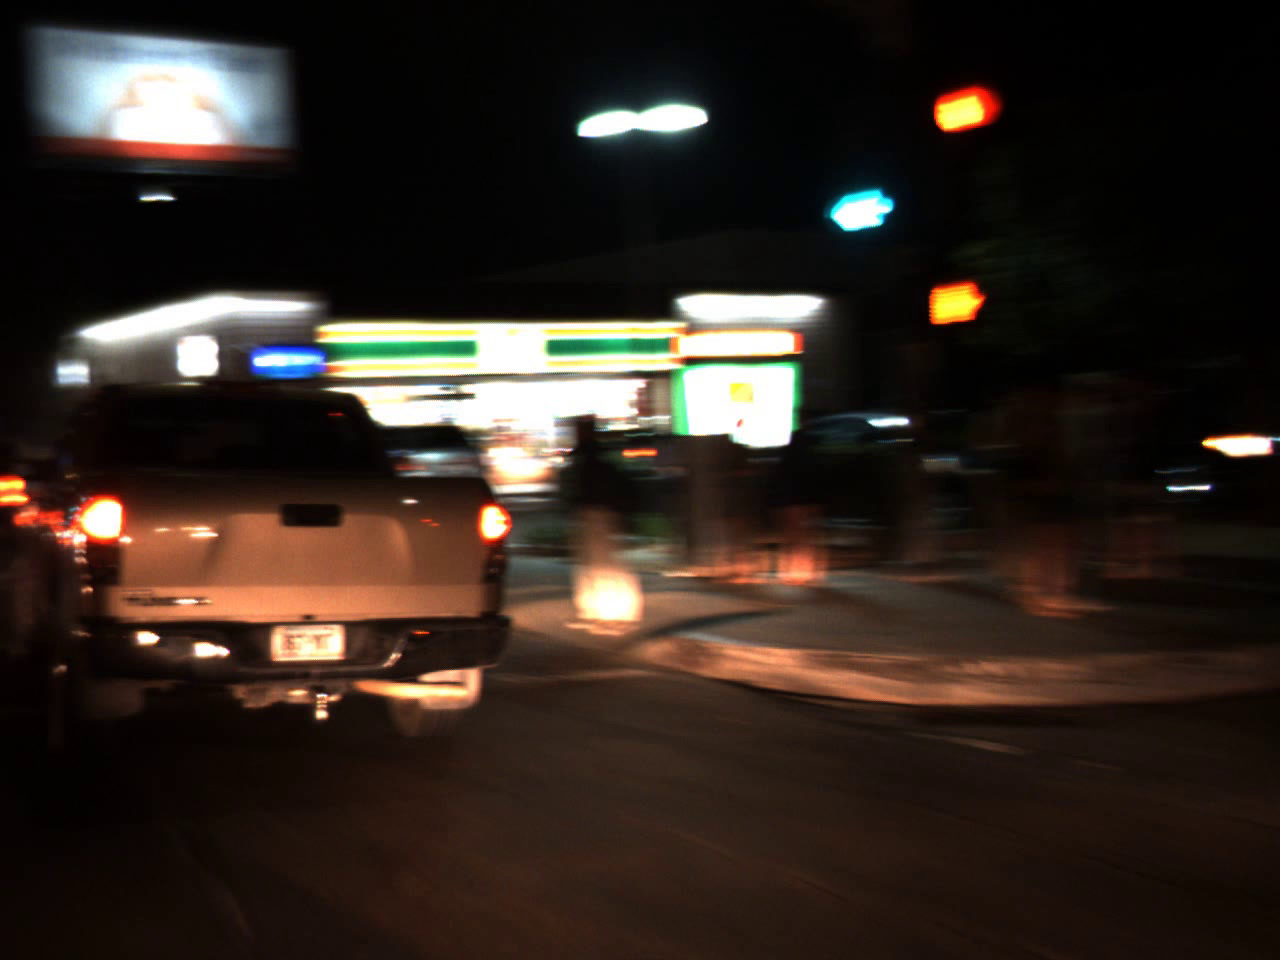go: (810, 162, 909, 237)
